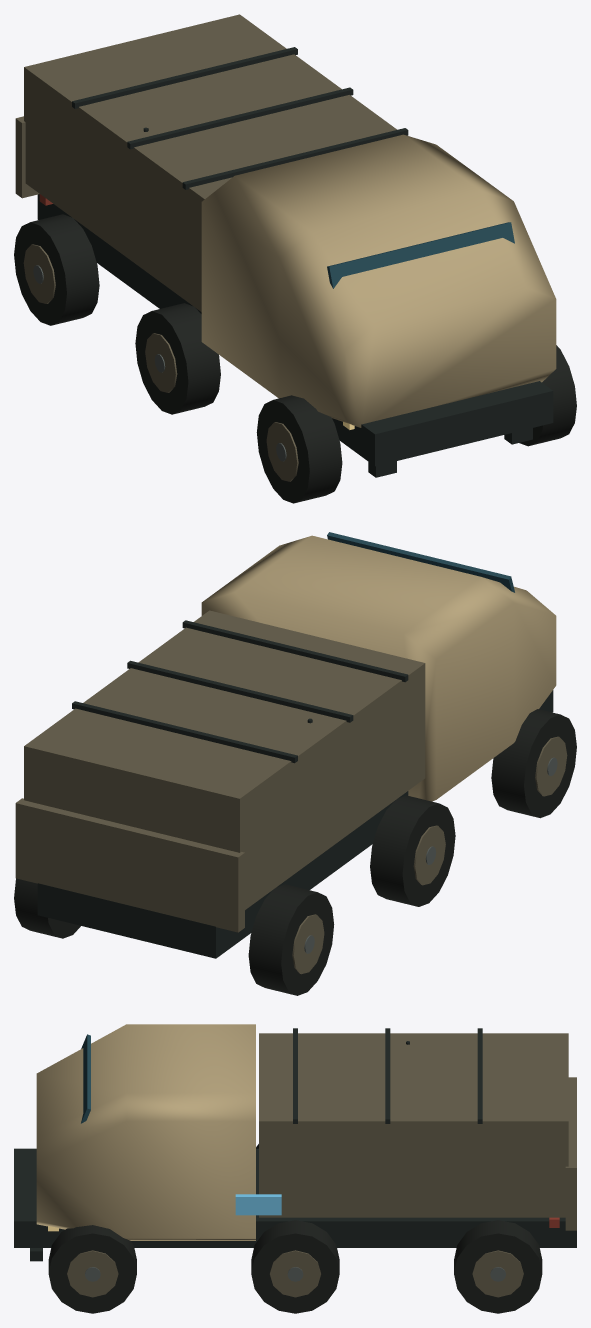
The model's file is logiTruck.glb.
3 views of the same model, one above another, from view 1: azimuth 30°, elevation 25°; view 2: azimuth 150°, elevation 25°; view 3: azimuth 270°, elevation 25° (orthographic). The views are drawn at different scales.
Visible parts, largest first — view 1: armor, stowage, rubber, dark, trim, glass; view 2: stowage, armor, trim, rubber, dark, glass; view 3: stowage, armor, rubber, dark, trim, marking, glass, steel.
Boxes of the visible parts, x1,y1,x2,y2 form: armor: (201,134,556,427); stowage: (24,14,396,311); rubber: (14,214,576,503); dark: (37,47,553,477); trim: (15,116,298,481); glass: (327,222,514,288); stowage: (24,610,425,909); armor: (201,535,556,801); trim: (15,736,567,974); rubber: (14,709,576,995); dark: (37,620,553,958); glass: (327,532,514,592); stowage: (259,1033,568,1217); armor: (36,1024,255,1240); rubber: (48,1144,542,1313); dark: (14,1028,576,1261); trim: (67,1077,576,1297); marking: (235,1194,281,1215); glass: (81,1034,90,1123); steel: (85,1267,505,1281).
Size of the model in its own units: 2.84 by 2.4 by 6.1.
